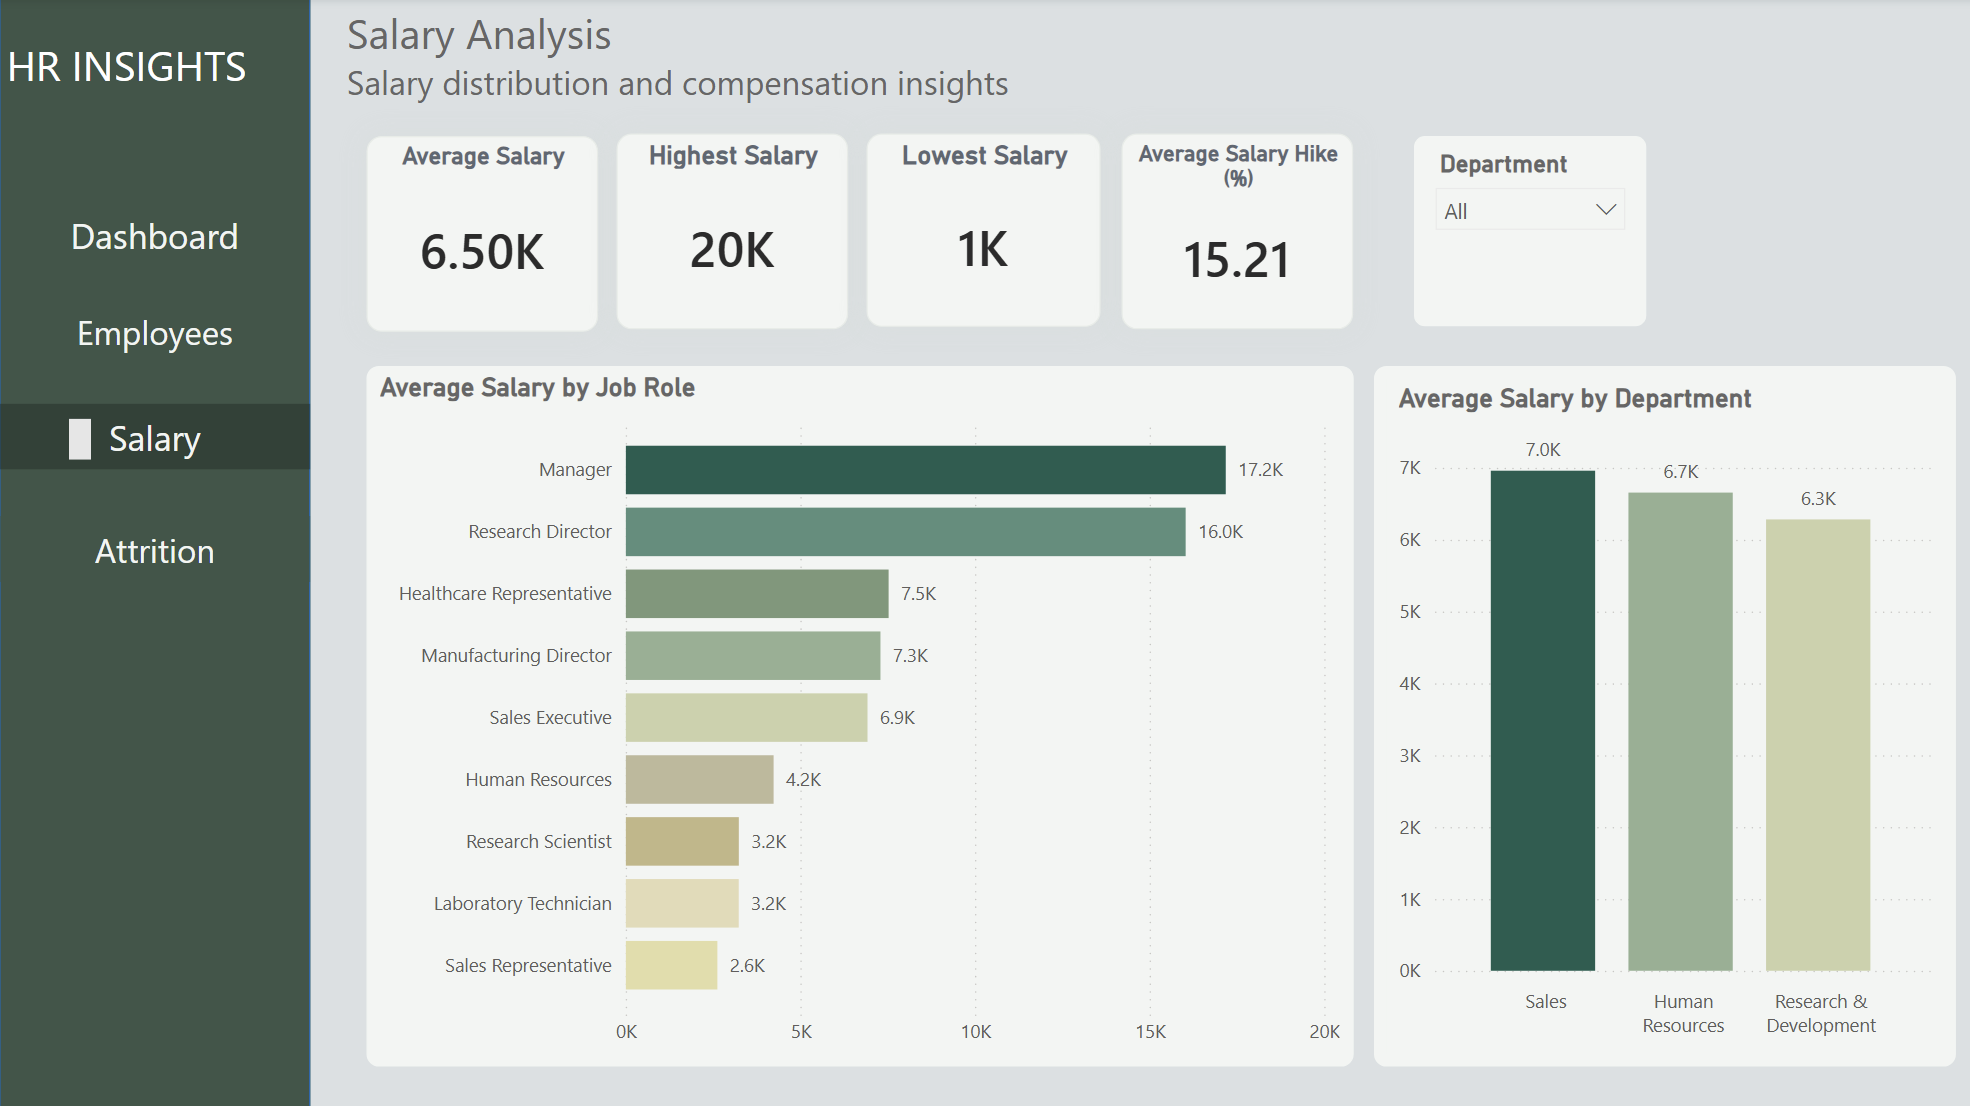

This screenshot's page, from the dashboard's own definition file:
{"tool":"powerbi","page":{"name":"Salary Analysis ","canvas":[1280,720],"ordinal":2},"visuals":[{"type":"shape","box":[0,0,201.8,719.6],"z":0},{"type":"actionButton","box":[0,132.1,201.8,42.9],"z":1000},{"type":"actionButton","box":[0,196.4,201.8,42.9],"z":2000},{"type":"actionButton","box":[0,337.5,201.8,42.9],"z":3000},{"type":"actionButton","box":[0,264.3,201.8,42.9],"z":4000},{"type":"shape","box":[44.6,273.2,14.3,26.8],"z":5000},{"type":"textbox","box":[0,21.4,201.8,82.1],"z":6000},{"type":"cardVisual","title":"Average Salary","fields":{"Data":["Avg(WA_Fn-UseC_-HR-Employee-Attrition.MonthlyIncome)"]},"box":[237.5,91.1,150,126.8],"z":7000},{"type":"cardVisual","title":"Highest Salary","fields":{"Data":["Max(WA_Fn-UseC_-HR-Employee-Attrition.MonthlyIncome)"]},"box":[400,89.3,150,126.8],"z":8000},{"type":"cardVisual","title":"Lowest Salary","fields":{"Data":["Min(WA_Fn-UseC_-HR-Employee-Attrition.MonthlyIncome)"]},"box":[562.5,89.3,151.8,125],"z":9000},{"type":"cardVisual","title":"Average Salary Hike (%)","fields":{"Data":["Avg(WA_Fn-UseC_-HR-Employee-Attrition.PercentSalaryHike)"]},"box":[726.8,89.3,150,126.8],"z":10000},{"type":"textbox","box":[219.6,0,480.4,82.1],"z":11000},{"type":"clusteredBarChart","title":"Average Salary by Job Role","fields":{"Category":["WA_Fn-UseC_-HR-Employee-Attrition.JobRole"],"Y":["Avg(WA_Fn-UseC_-HR-Employee-Attrition.MonthlyIncome)"]},"box":[237.5,239.3,639.3,453.6],"z":12000},{"type":"clusteredColumnChart","title":"Average Salary by Department","fields":{"Category":["WA_Fn-UseC_-HR-Employee-Attrition.Department"],"Y":["Avg(WA_Fn-UseC_-HR-Employee-Attrition.MonthlyIncome)"]},"box":[891.1,239.3,376.8,453.6],"z":13000},{"type":"slicer","fields":{"Values":["WA_Fn-UseC_-HR-Employee-Attrition.Department"]},"box":[916.2,90.6,150.5,123],"z":14000}]}

Visuals, with their boxes on the page's 1280x720 design canvas (x1, y1, x2, y2). These are canvas units, not pixel positions in the 1970x1106 screenshot, which may show the page scaled, cropped or inside an application window:
shape: Rect(0, 0, 202, 720)
actionButton: Rect(0, 132, 202, 175)
actionButton: Rect(0, 196, 202, 239)
actionButton: Rect(0, 338, 202, 380)
actionButton: Rect(0, 264, 202, 307)
shape: Rect(45, 273, 59, 300)
textbox: Rect(0, 21, 202, 104)
"Average Salary" cardVisual: Rect(238, 91, 388, 218)
"Highest Salary" cardVisual: Rect(400, 89, 550, 216)
"Lowest Salary" cardVisual: Rect(562, 89, 714, 214)
"Average Salary Hike (%)" cardVisual: Rect(727, 89, 877, 216)
textbox: Rect(220, 0, 700, 82)
"Average Salary by Job Role" clusteredBarChart: Rect(238, 239, 877, 693)
"Average Salary by Department" clusteredColumnChart: Rect(891, 239, 1268, 693)
slicer - WA_Fn-UseC_-HR-Employee-Attrition.Department: Rect(916, 91, 1067, 214)
